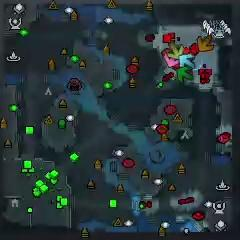x1: (164, 54, 180, 67)
x2: (167, 41, 184, 60)
x3: (179, 54, 195, 69)
x4: (177, 66, 194, 83)
x5: (197, 35, 214, 53)
